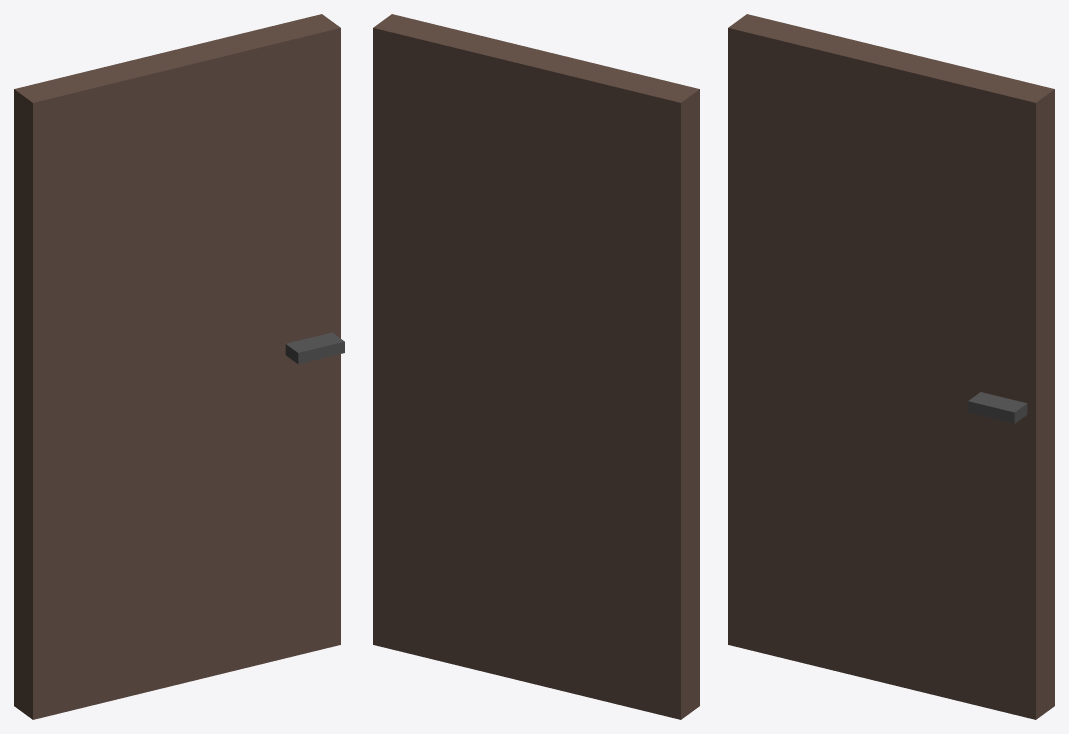
Rendered from InteriorDoor.fbx.
The picture shows the model from 3 angles, left to right: view 1: azimuth 30°, elevation 25°; view 2: azimuth 150°, elevation 25°; view 3: azimuth 330°, elevation 25°; orthographic projection.
Parts seen in each view (by area): view 1: Puerta Interior; view 2: Puerta Interior; view 3: Puerta Interior.
Part boxes in pixels (left/top/right/bottom): Puerta Interior: left=14, top=14, right=344, bottom=719; Puerta Interior: left=373, top=14, right=699, bottom=719; Puerta Interior: left=728, top=14, right=1054, bottom=719.
Size of the model in its own units: 188 by 360 by 33.28.
